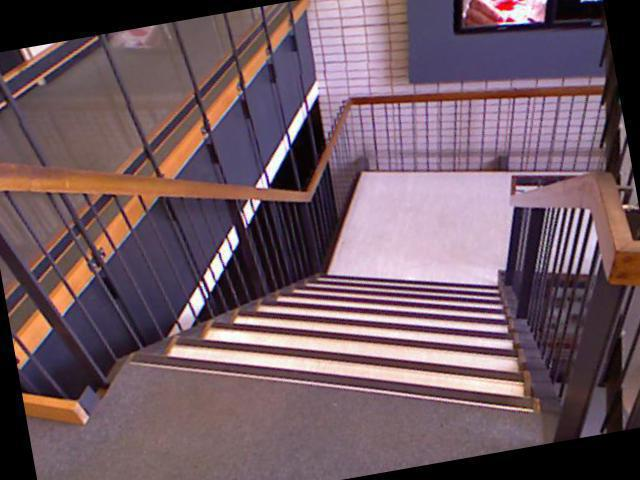Escaleras: (114, 241, 532, 480), (573, 252, 640, 433)
